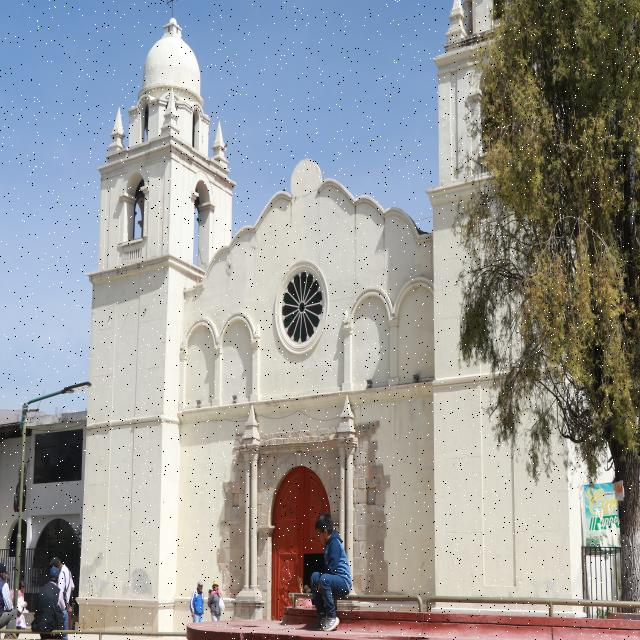CAMPANARIO: (86, 113, 240, 287)
CUPULA: (128, 0, 220, 149)
PORTADA CENTRAL: (248, 429, 356, 640)
TORRES: (66, 0, 243, 640)
colonial-architecture-: (50, 0, 640, 624)
